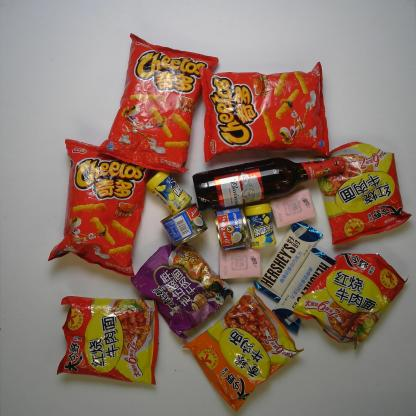Alcohol: (190, 154, 348, 214)
Canned Food: (157, 201, 209, 248), (212, 205, 252, 253)
Chocolate: (269, 245, 339, 335), (251, 219, 325, 304)
Gum: (144, 168, 193, 217), (242, 199, 277, 250)
Instant Noodles: (179, 285, 307, 414), (303, 138, 414, 250), (290, 250, 411, 352), (128, 237, 239, 343), (52, 292, 163, 390)
Puffed Food: (90, 29, 222, 178), (44, 135, 153, 281), (194, 58, 337, 164)
Tissue: (267, 186, 319, 231), (216, 246, 263, 282)
